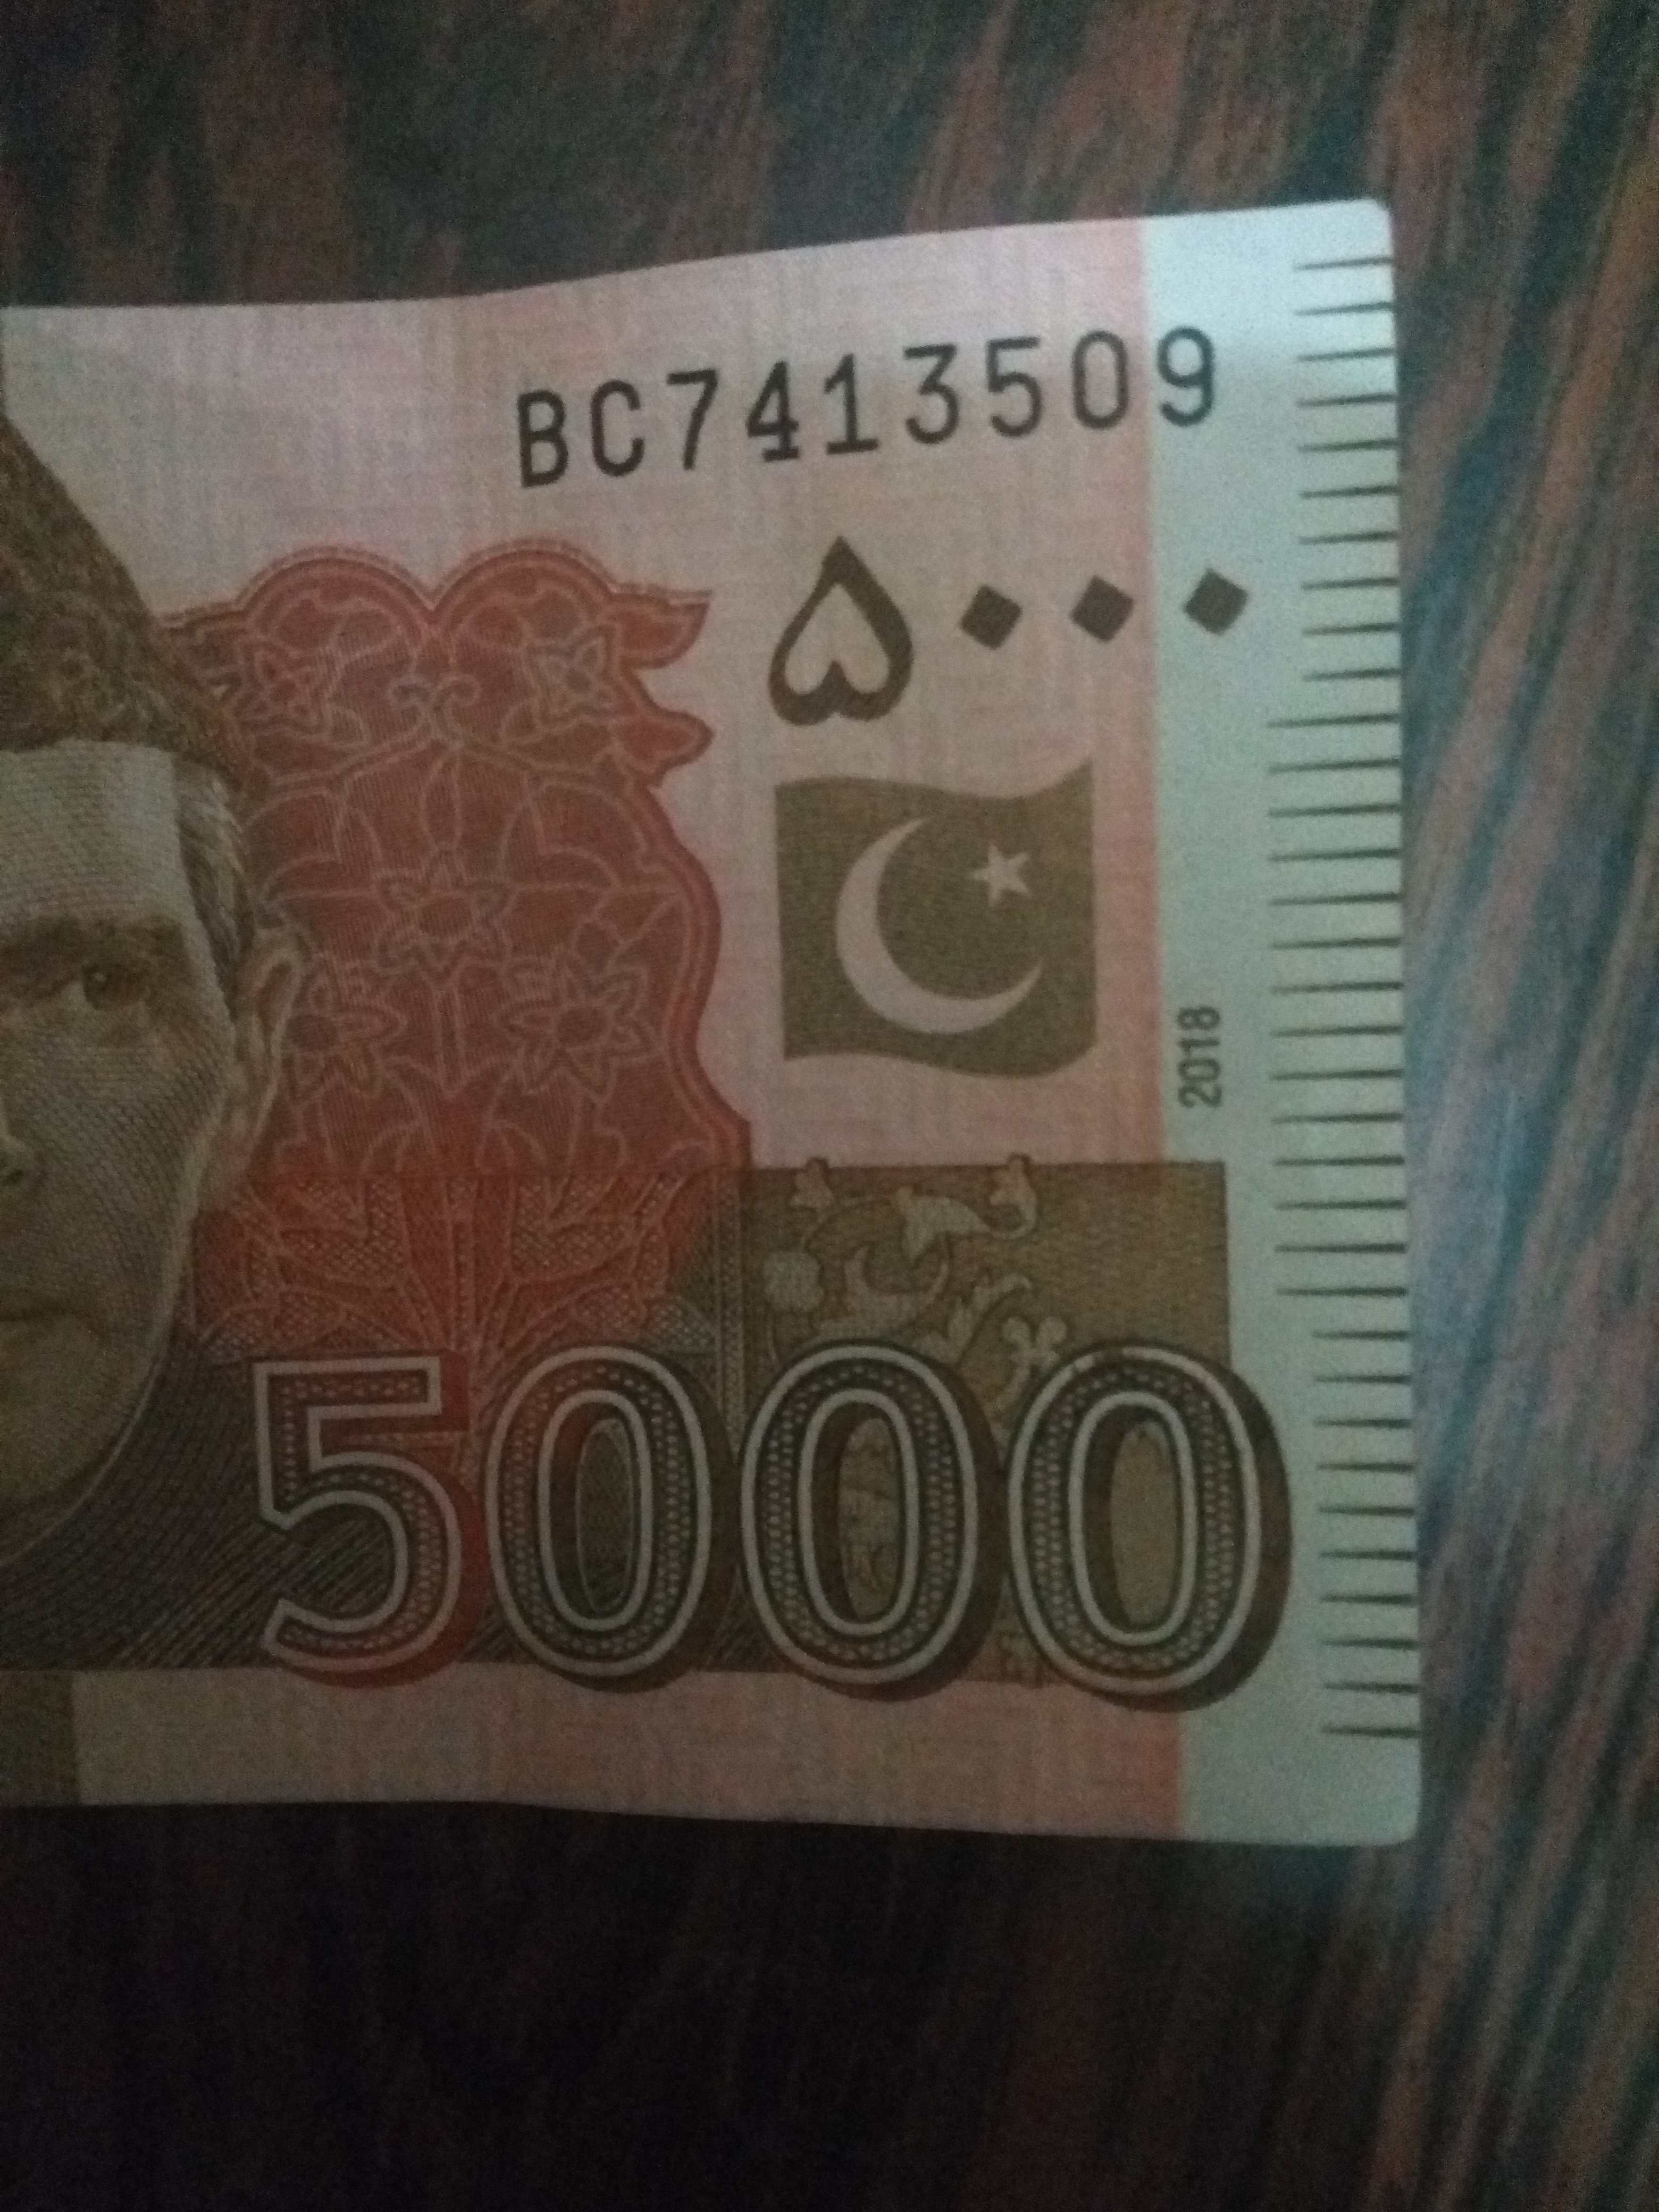5000 rupee: (30, 263, 1480, 1952)
